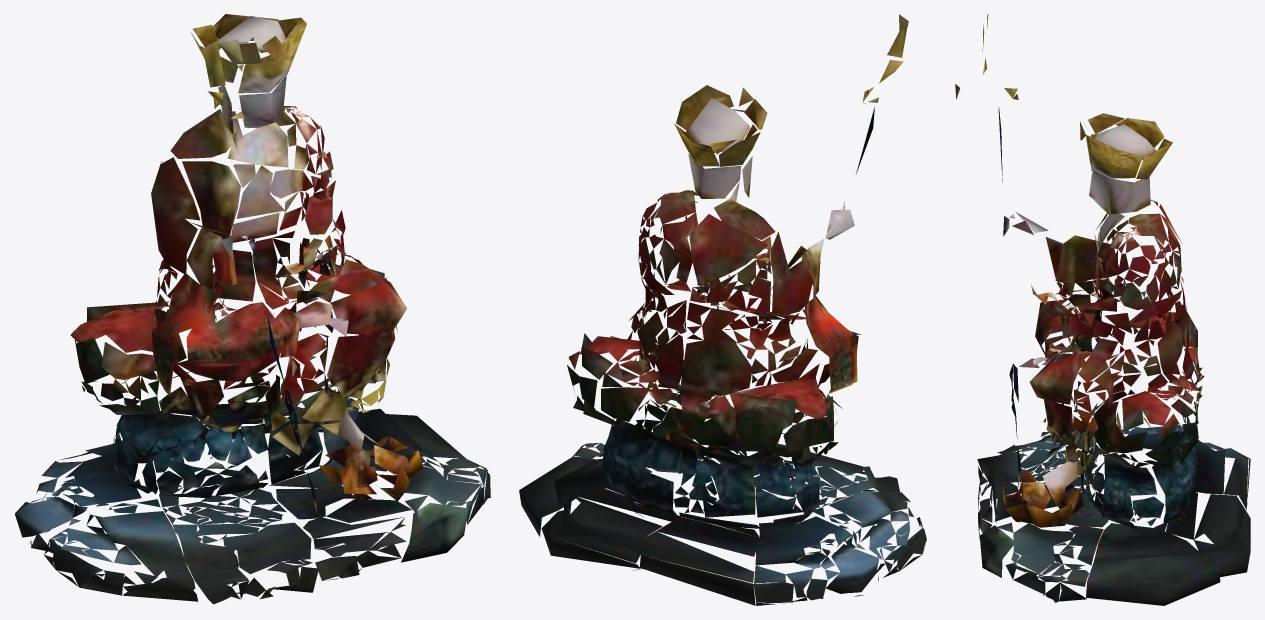
Rendered from far.glb.
3 renders of one model, left to right at view 1: azimuth 30°, elevation 25°; view 2: azimuth 150°, elevation 25°; view 3: azimuth 270°, elevation 25°, orthographic. The views are drawn at different scales.
Visible parts, largest first — view 1: statue-020; view 2: statue-020; view 3: statue-020.
Boxes of the visible parts, x1=… form: statue-020: x1=15, y1=14, x2=490, y2=604; statue-020: x1=519, y1=14, x2=926, y2=605; statue-020: x1=955, y1=14, x2=1250, y2=605.
Size of the model in its own units: 0.7361 by 0.9915 by 0.5703.
1 material, 1 textured.
